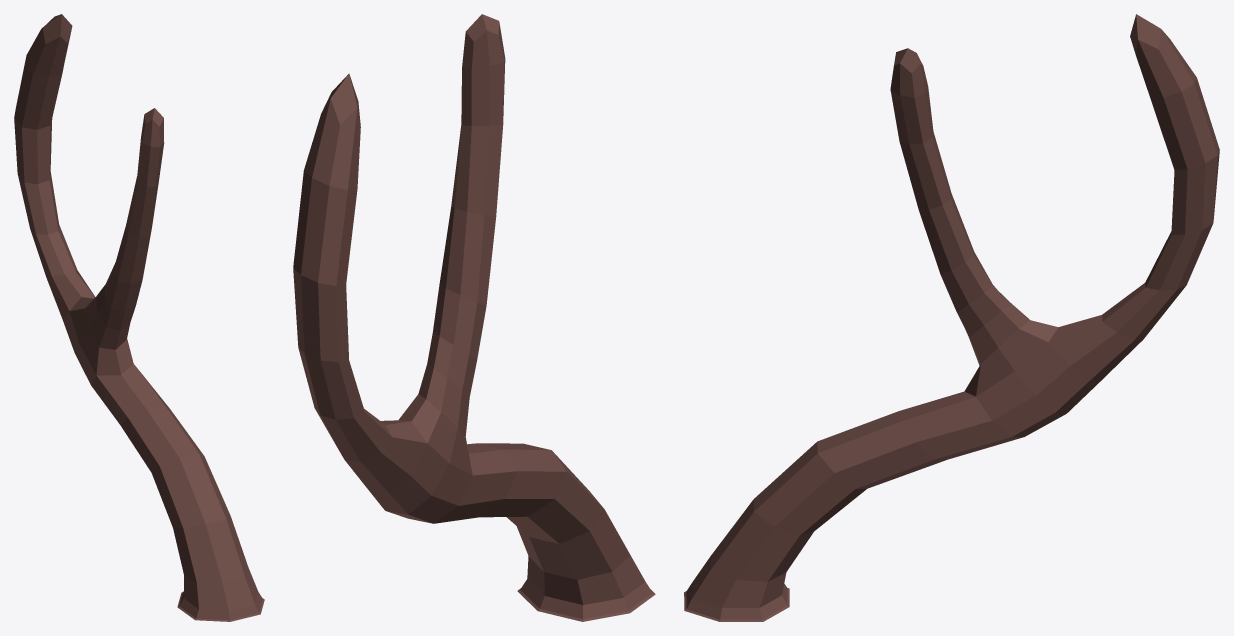
The model's file is Willow_Dead_3.glb.
3 views of the same model, side by side, from view 1: azimuth 30°, elevation 25°; view 2: azimuth 150°, elevation 25°; view 3: azimuth 270°, elevation 25° (orthographic). The views are drawn at different scales.
Visible parts, largest first — view 1: Willow_Dead_3; view 2: Willow_Dead_3; view 3: Willow_Dead_3.
Boxes of the visible parts, box(x1,y1,x2,y2) form: Willow_Dead_3: box(14, 14, 264, 621); Willow_Dead_3: box(293, 14, 655, 621); Willow_Dead_3: box(684, 14, 1219, 621).
Size of the model in its own units: 0.3109 by 1.91 by 1.58.
